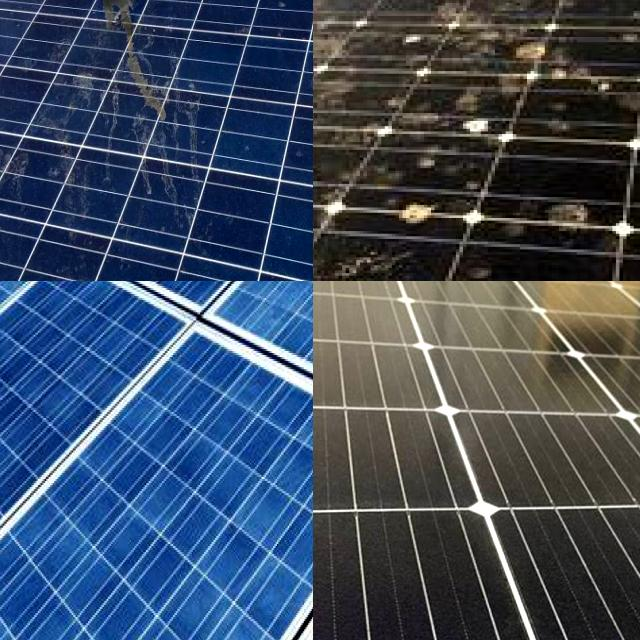bird: (85, 0, 181, 143), (538, 190, 618, 236), (389, 186, 447, 238), (450, 102, 506, 144), (313, 42, 368, 84), (432, 0, 501, 26), (508, 34, 566, 60)
crack: (0, 310, 313, 640), (0, 281, 197, 640), (313, 500, 568, 640), (65, 281, 313, 416), (436, 405, 640, 545), (460, 486, 640, 640), (313, 395, 503, 539), (0, 281, 127, 495), (0, 281, 268, 358)
